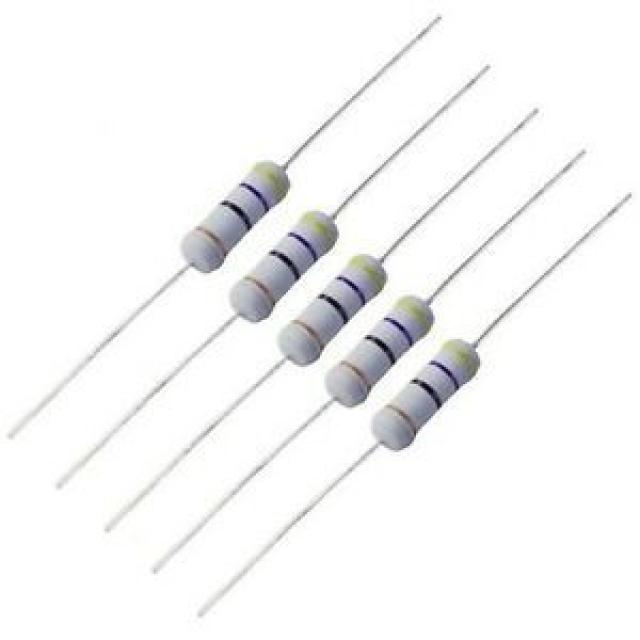Resistor: (181, 158, 290, 271), (328, 294, 433, 406), (232, 210, 338, 320), (374, 338, 479, 449), (280, 254, 384, 362), (373, 296, 433, 354), (327, 255, 385, 311), (233, 162, 289, 216)
